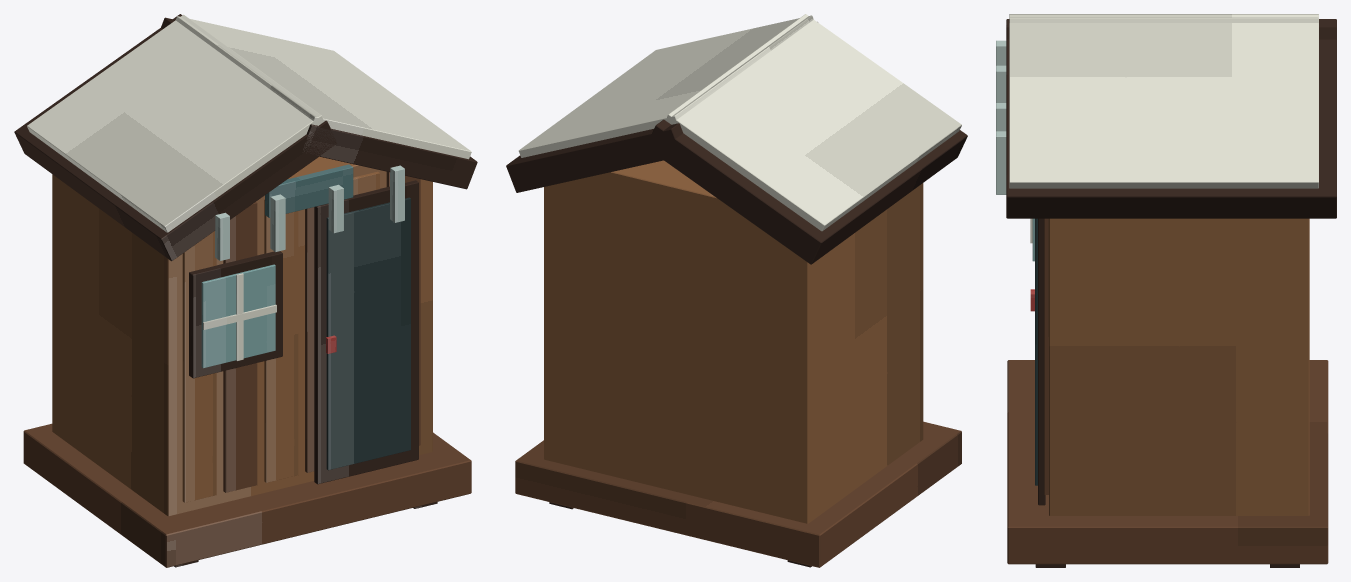
Rendered from frozen_beach_hut.glb.
3 renders of one model, left to right at view 1: azimuth 30°, elevation 25°; view 2: azimuth 150°, elevation 25°; view 3: azimuth 270°, elevation 25°, orthographic. The views are drawn at different scales.
Visible parts, largest first — view 1: HutBody, RoofFrostL, HutDeck, DoorInset, RoofFrostR, RoofLeft, HutDoor, FrontPlank_3, FrontPlank_1, FrontPlank_2, FrozenWindow, RoofRight (+10 smaller); view 2: HutBody, RoofFrostL, HutDeck, RoofFrostR, RoofLeft, RoofRight; view 3: HutBody, RoofFrostR, HutDeck, RoofRight, RoofFrostL, HutDoor, FrontPlank_6, DoorInset, HutIcicle_4.
Part boxes in pixels (x1=…): HutBody: x1=52, y1=156, x2=432, y2=516; RoofFrostL: x1=27, y1=14, x2=323, y2=232; HutDeck: x1=23, y1=423, x2=471, y2=567; DoorInset: x1=326, y1=197, x2=410, y2=470; RoofFrostR: x1=176, y1=16, x2=471, y2=159; RoofLeft: x1=14, y1=14, x2=336, y2=261; HutDoor: x1=314, y1=180, x2=418, y2=484; FrontPlank_3: x1=264, y1=199, x2=298, y2=482; FrontPlank_1: x1=182, y1=231, x2=216, y2=502; FrontPlank_2: x1=223, y1=202, x2=257, y2=492; FrozenWindow: x1=201, y1=264, x2=275, y2=368; RoofRight: x1=161, y1=17, x2=477, y2=189; HutBody: x1=544, y1=160, x2=923, y2=523; RoofFrostL: x1=666, y1=14, x2=961, y2=231; HutDeck: x1=515, y1=421, x2=961, y2=567; RoofFrostR: x1=518, y1=15, x2=813, y2=157; RoofLeft: x1=646, y1=119, x2=967, y2=264; RoofRight: x1=506, y1=123, x2=682, y2=192; HutBody: x1=1049, y1=218, x2=1309, y2=515; RoofFrostR: x1=1009, y1=14, x2=1318, y2=188; HutDeck: x1=1007, y1=360, x2=1328, y2=564; RoofRight: x1=1006, y1=19, x2=1336, y2=218; RoofFrostL: x1=1009, y1=14, x2=1318, y2=22; HutDoor: x1=1038, y1=218, x2=1045, y2=505; FrontPlank_6: x1=1044, y1=218, x2=1048, y2=494; DoorInset: x1=1035, y1=218, x2=1037, y2=485; HutIcicle_4: x1=996, y1=131, x2=1006, y2=194.
Size of the model in its own units: 2.17 by 2.81 by 1.8.
1 material, 1 textured.
